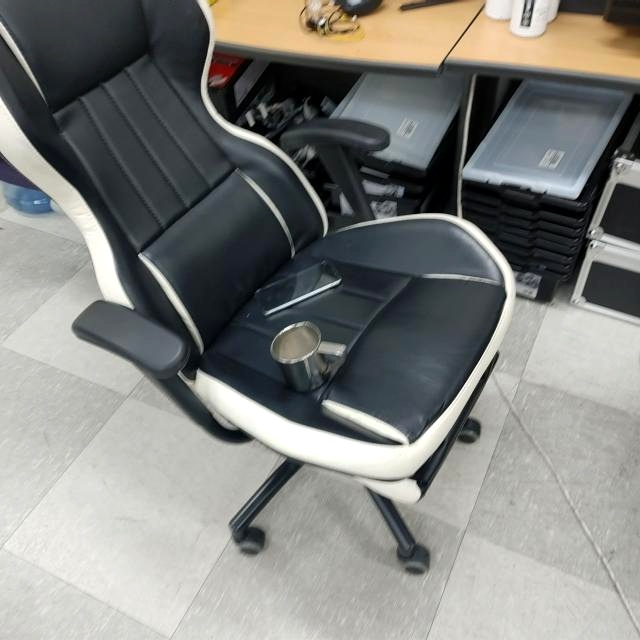cup: (268, 320, 348, 395)
phone: (254, 258, 342, 317)
